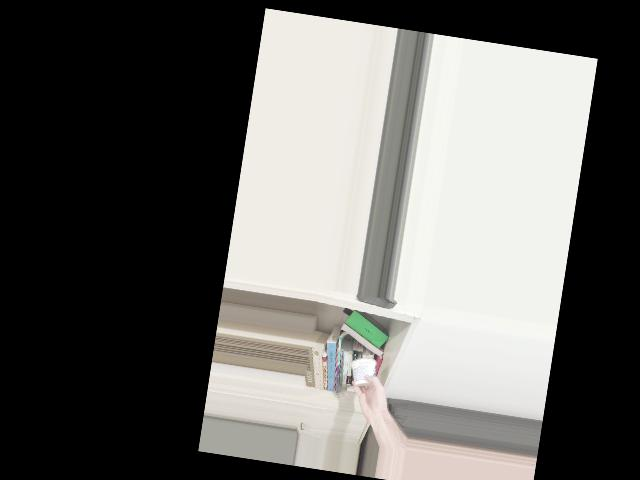cotage: (345, 354, 381, 395)
